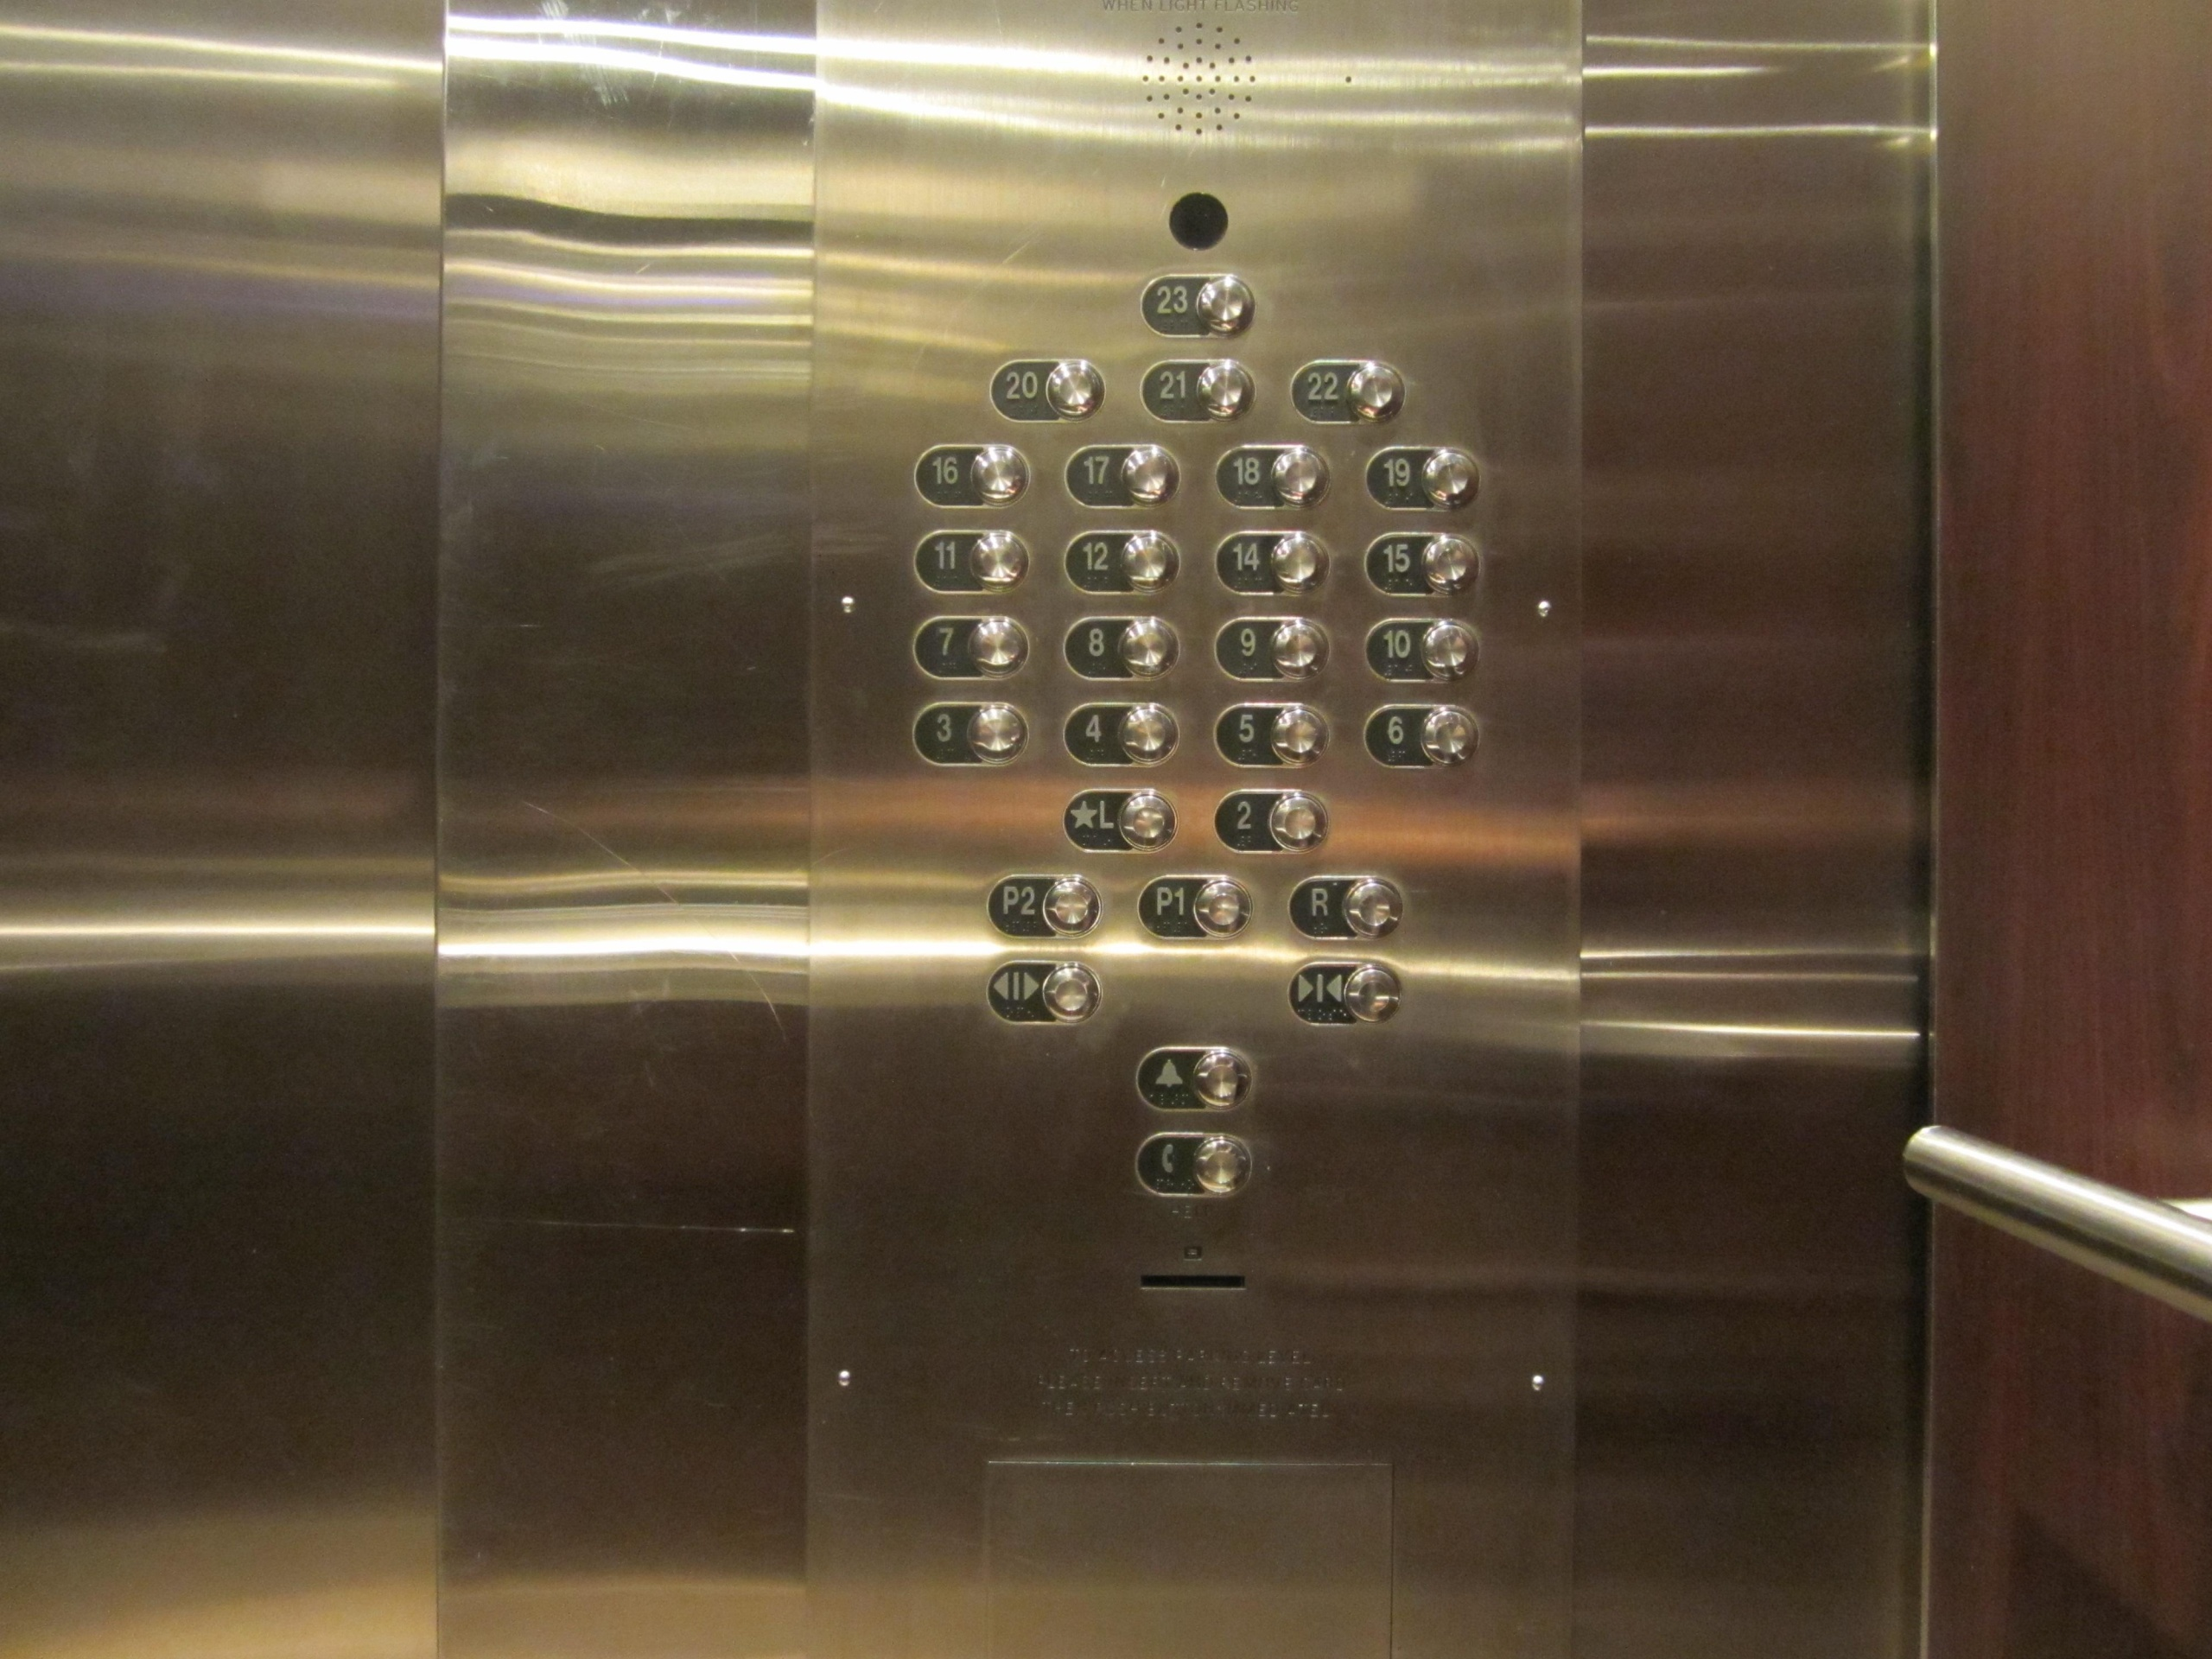10: (1362, 617, 1482, 688)
11: (909, 528, 1033, 598)
12: (1062, 526, 1183, 599)
14: (1211, 528, 1332, 599)
15: (1362, 530, 1484, 601)
16: (911, 439, 1031, 514)
17: (1062, 441, 1183, 514)
18: (1212, 443, 1334, 514)
19: (1362, 443, 1482, 516)
2: (1212, 788, 1331, 857)
20: (988, 357, 1108, 427)
21: (1141, 357, 1259, 429)
22: (1287, 355, 1407, 429)
23: (1137, 272, 1256, 342)
3: (907, 699, 1031, 772)
4: (1061, 699, 1183, 772)
5: (1211, 699, 1331, 772)
6: (1359, 702, 1482, 772)
7: (911, 612, 1031, 685)
8: (1061, 613, 1183, 685)
9: (1212, 615, 1331, 687)
P1: (1134, 871, 1254, 945)
P2: (984, 871, 1104, 941)
R: (1285, 873, 1407, 945)
alarm: (1130, 1042, 1256, 1117)
call: (1132, 1129, 1254, 1202)
close: (1284, 957, 1406, 1030)
open: (984, 957, 1104, 1030)
sL: (1061, 786, 1181, 856)
